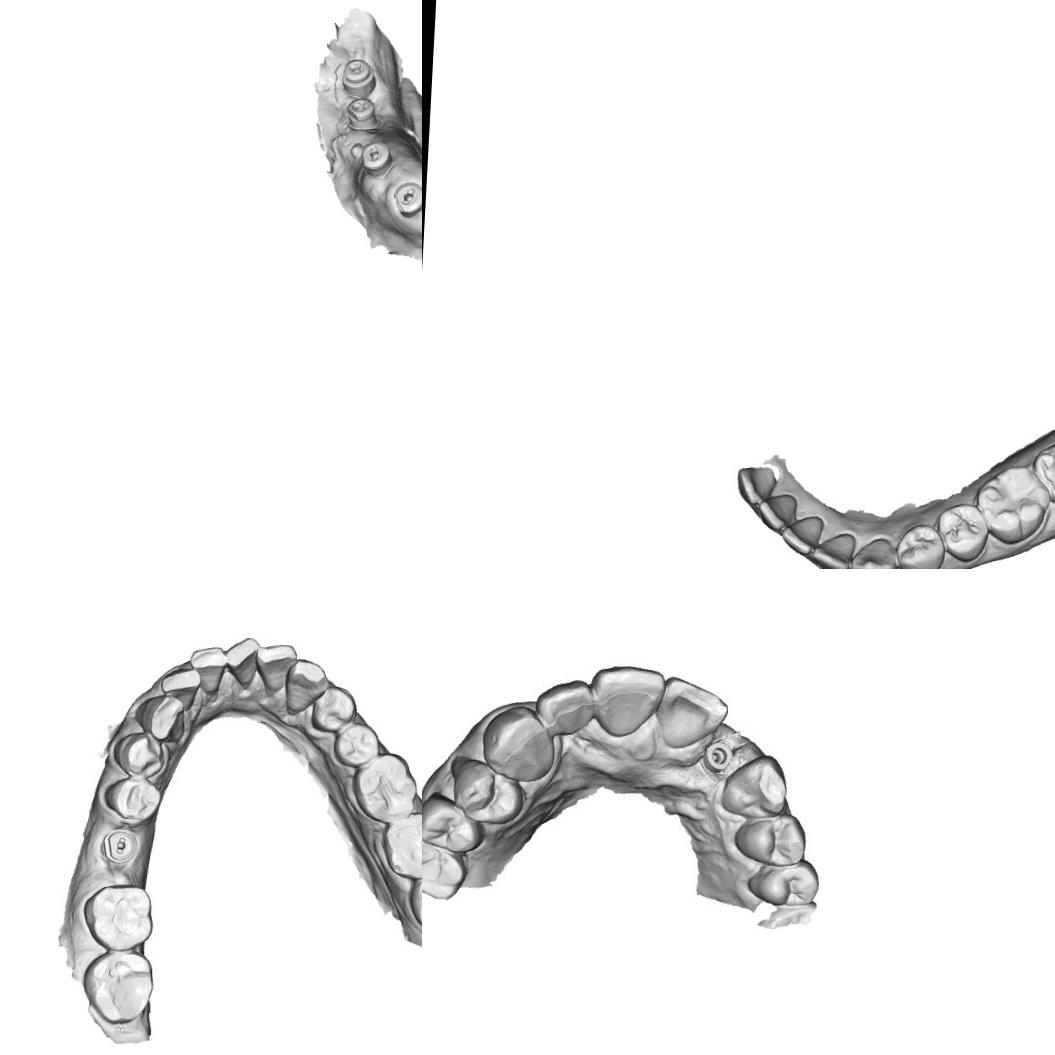canine: (479, 704, 556, 784), (719, 756, 790, 820), (132, 691, 186, 746), (282, 656, 330, 715), (848, 532, 899, 569)
implant: (702, 738, 736, 778)
implant_minus: (100, 826, 140, 864), (358, 138, 395, 179), (391, 179, 422, 218)
implant_plus: (338, 56, 378, 100), (343, 95, 381, 132)
incisor: (660, 678, 734, 744), (595, 662, 663, 732), (532, 676, 600, 735), (253, 640, 298, 698), (730, 460, 780, 508), (186, 642, 229, 696), (778, 511, 826, 559), (221, 634, 261, 690), (157, 664, 202, 712), (754, 486, 799, 532), (809, 530, 857, 569)
molar: (971, 462, 1054, 546), (78, 947, 156, 1027), (349, 748, 422, 826), (80, 880, 156, 953), (377, 808, 422, 883), (422, 832, 467, 904), (1029, 429, 1055, 513), (405, 861, 422, 939)
premolar: (448, 754, 526, 823), (730, 810, 808, 866), (746, 854, 822, 911), (934, 500, 988, 565), (422, 797, 483, 850), (101, 774, 162, 826), (110, 728, 165, 782), (308, 682, 359, 734), (330, 720, 381, 770), (893, 522, 947, 569)
